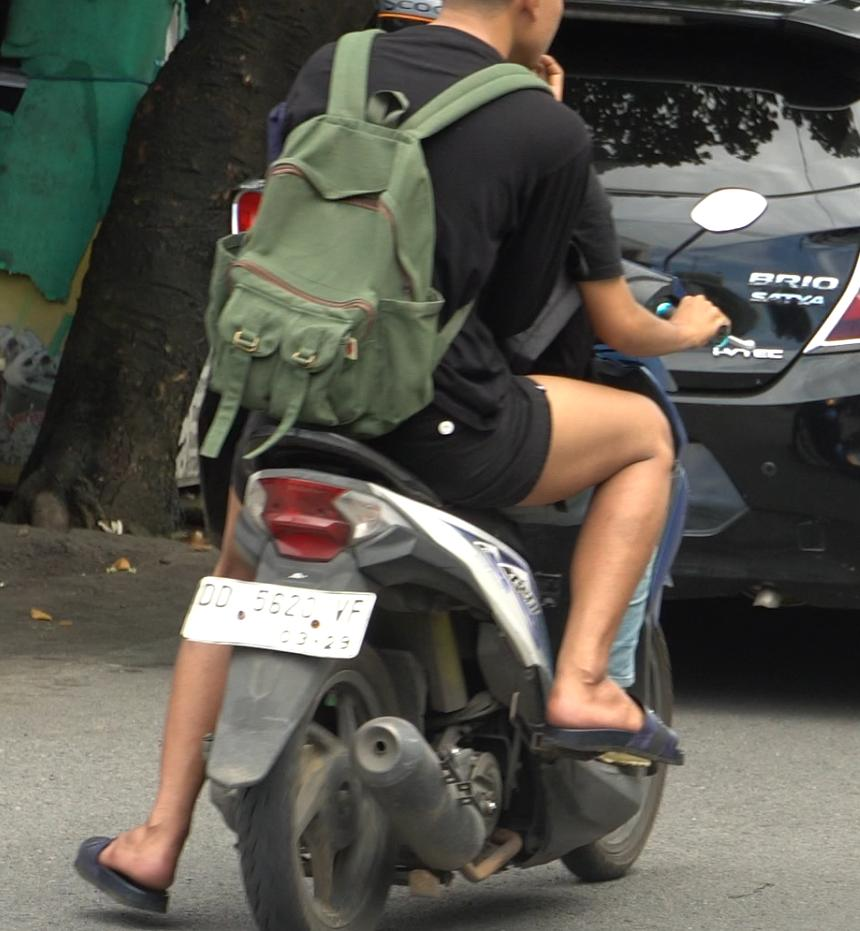number-plate: (179, 568, 381, 662)
